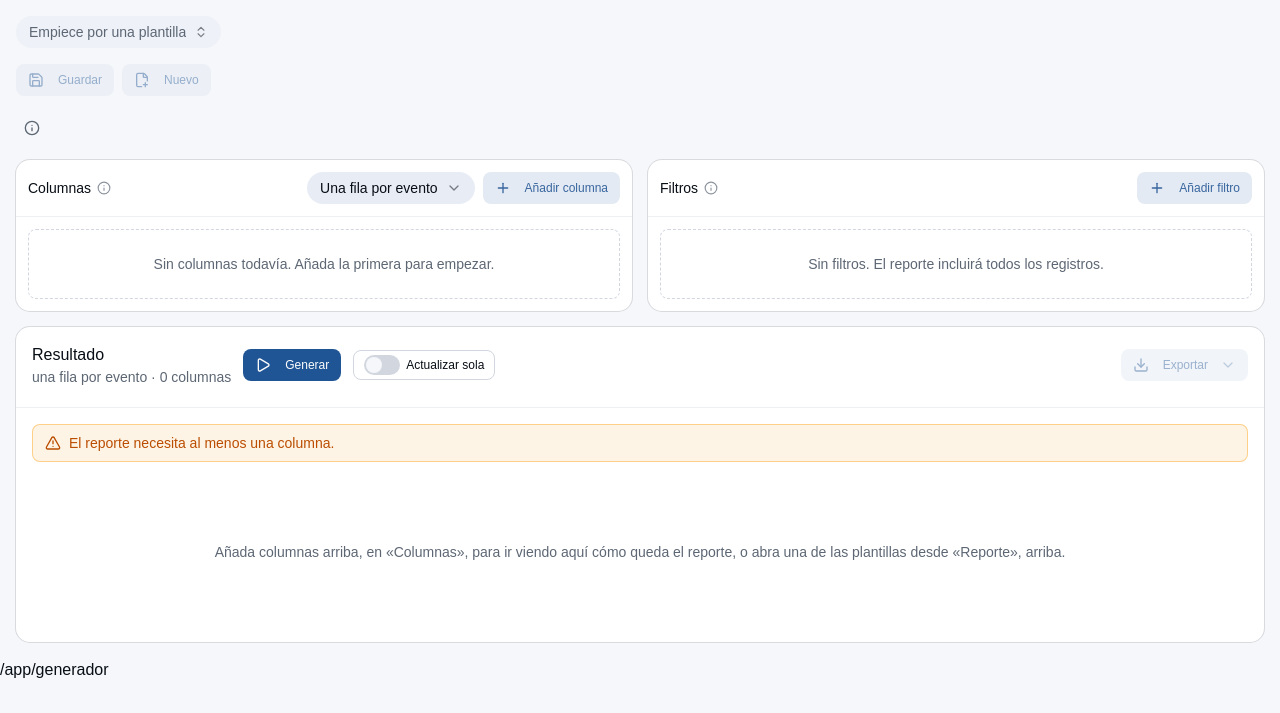
Test: running a report › clears the table when a run fails, rather than showing stale rows
Expected: the button "Generar" is shown, [243, 349, 341, 381]
Click the button "Añadir columna" at (551, 188), box [483, 172, 620, 204]
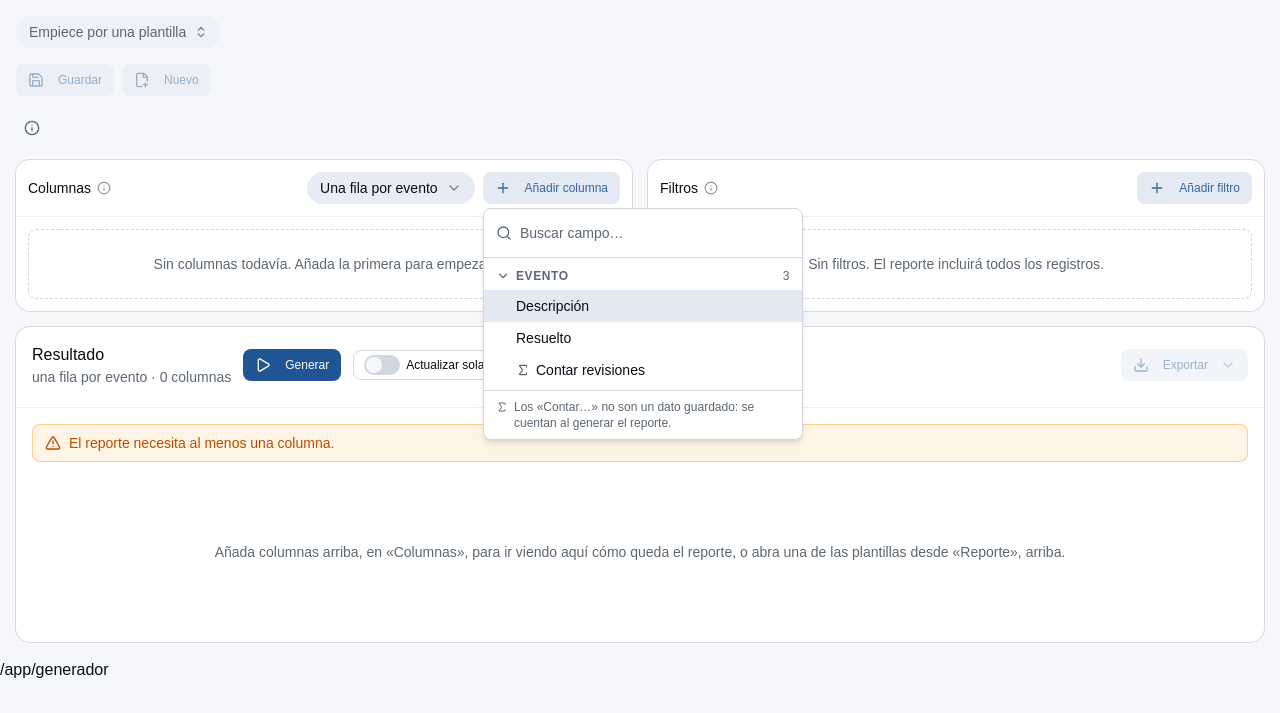
Click the option "Descripción" at (553, 306), box [484, 290, 802, 322]
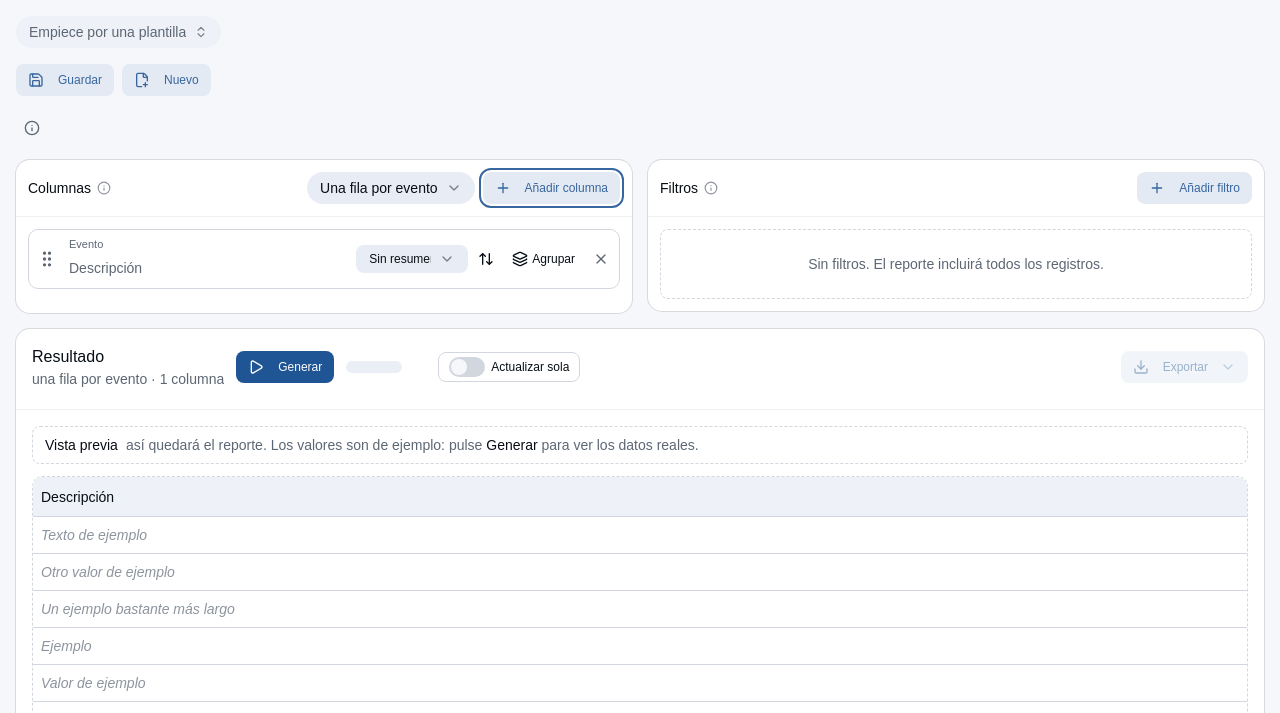
Click the button "Generar" at (285, 367), box [236, 351, 334, 383]
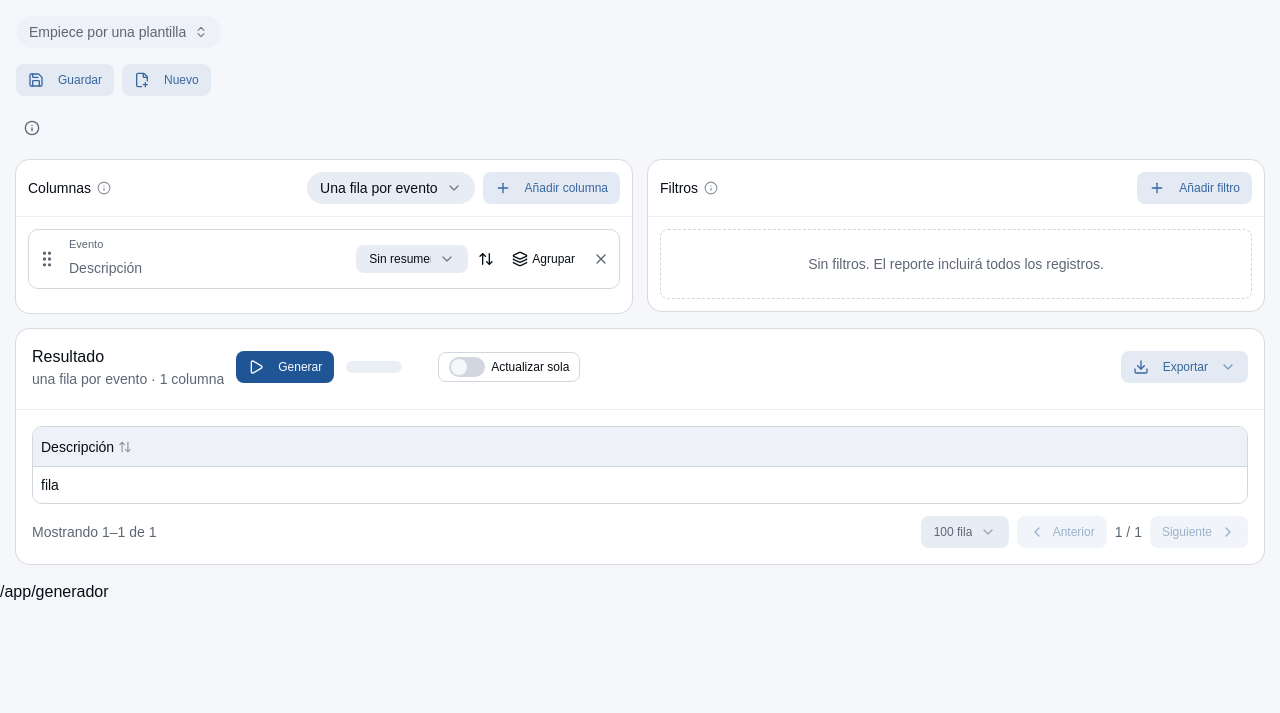
Expected: the table is shown, [33, 427, 1247, 503]
Click the button "Generar" at (285, 367), box [236, 351, 334, 383]
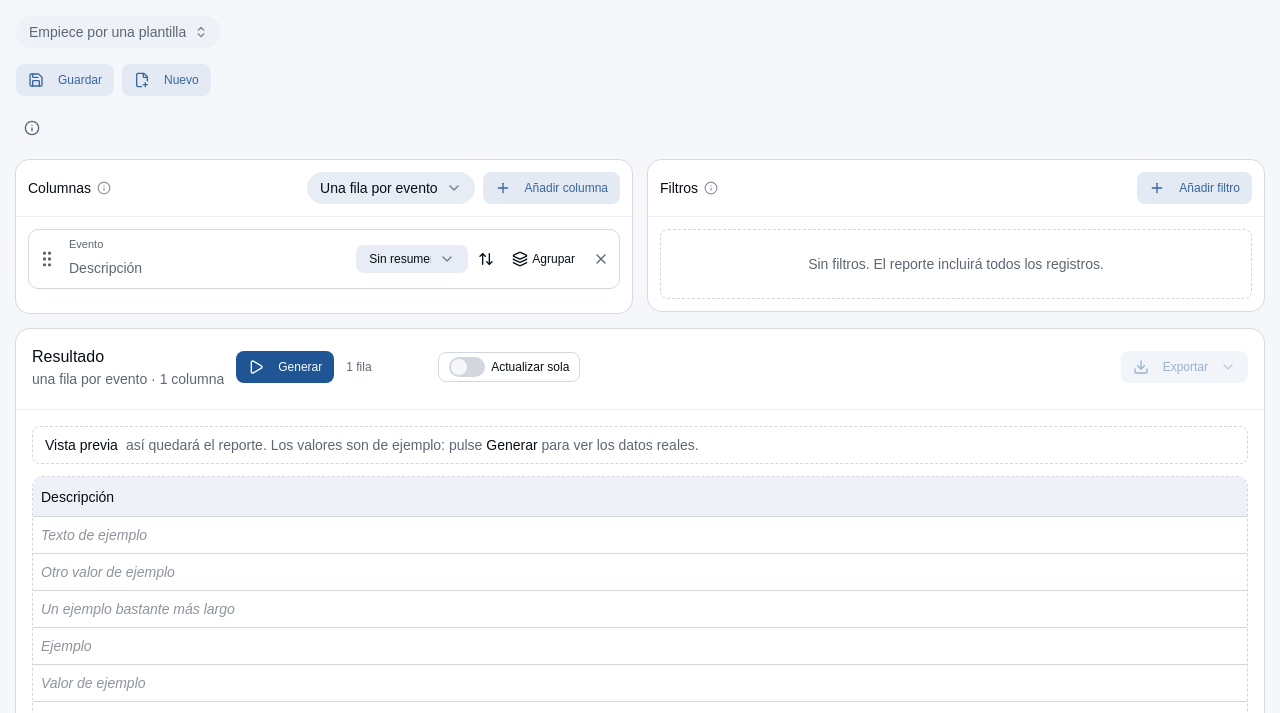
Expected: the text "Vista previa" is shown, [45, 435, 118, 455]
Expected: the text "Mostrando" is gone
